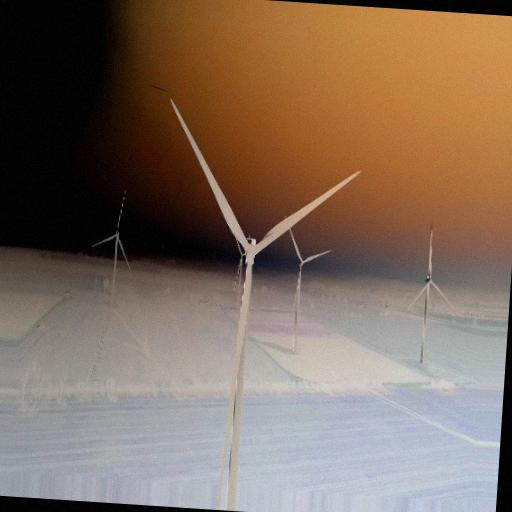wind turbine: (168, 98, 363, 473), (400, 225, 456, 363), (287, 227, 331, 348), (90, 184, 131, 286)
